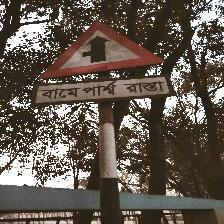Side-road-left: (34, 19, 171, 107)
